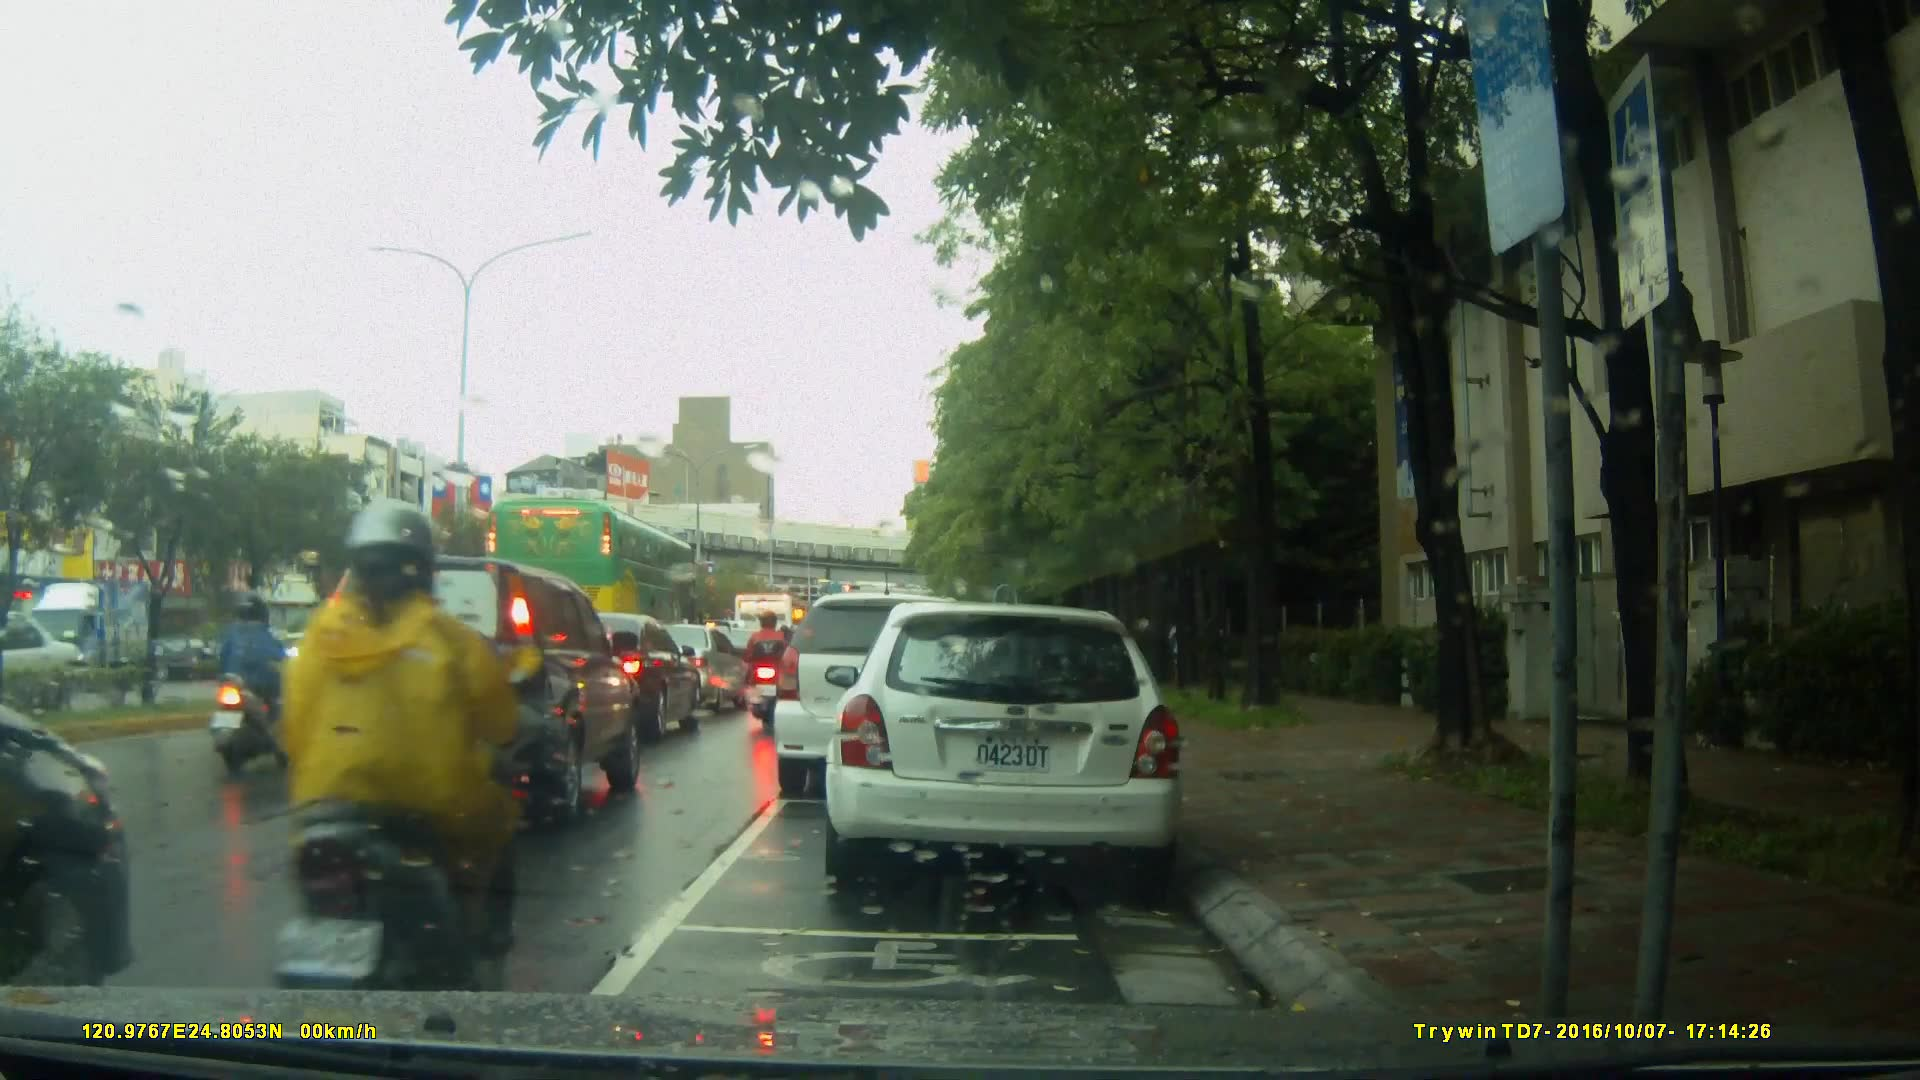rider: (267, 500, 524, 1011), (207, 598, 305, 769), (741, 612, 795, 727)
vehicle: (831, 592, 1196, 897), (310, 552, 625, 820), (770, 592, 999, 801), (484, 494, 710, 659), (512, 611, 703, 747), (22, 576, 164, 684), (634, 623, 753, 716), (1, 613, 97, 709)
